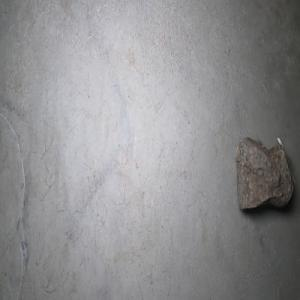Rock: (234, 133, 295, 210)
